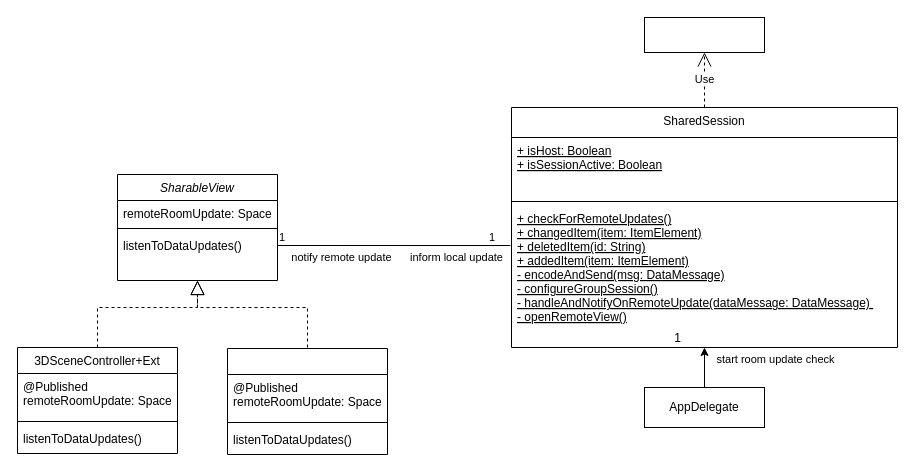
Some shapes in this 915 by 473 pixel diagram are drawn without their labels. Here are the shapes that lost their labels. From the top down, the box of each, then its label:
(644, 16, 764, 52): DataMessage
(226, 348, 388, 454): FloorPlanController+Ext
